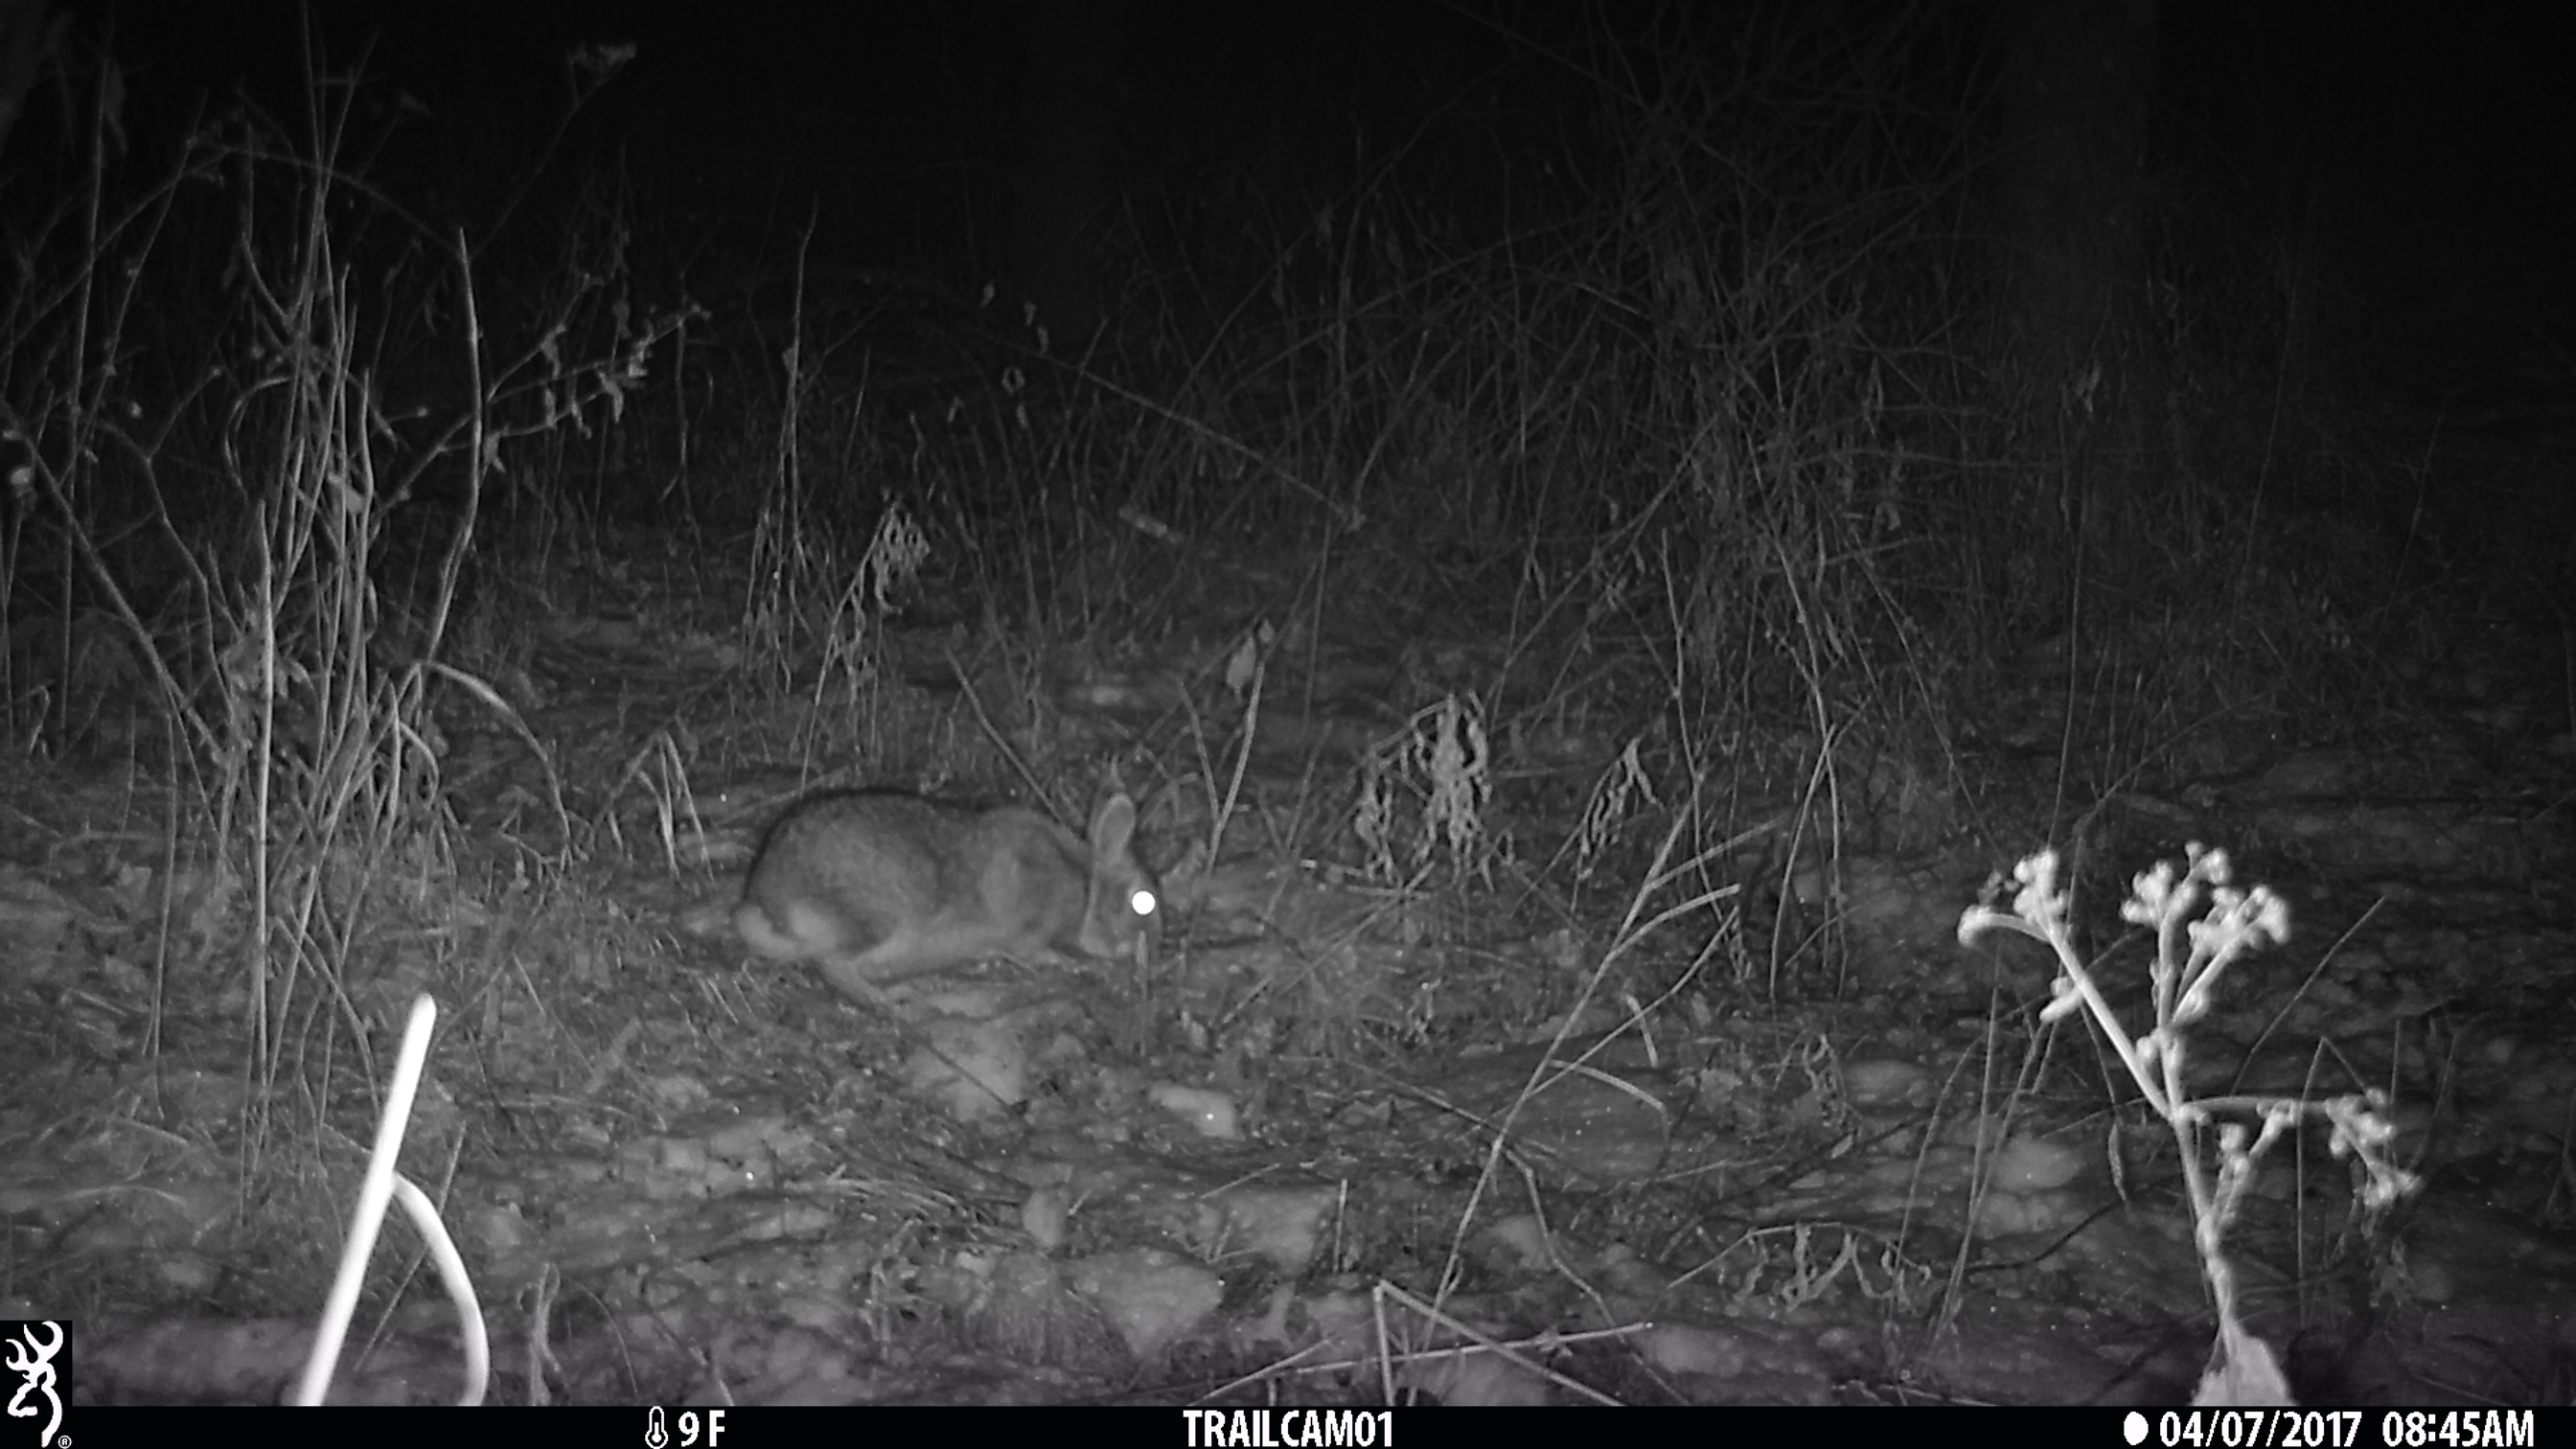Rabbit: (736, 780, 1164, 971)
